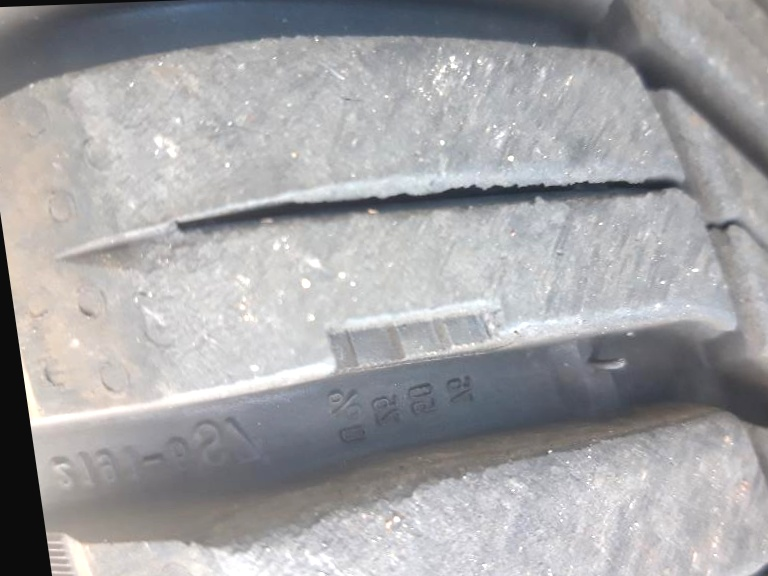temoin:90: (303, 283, 548, 393)
